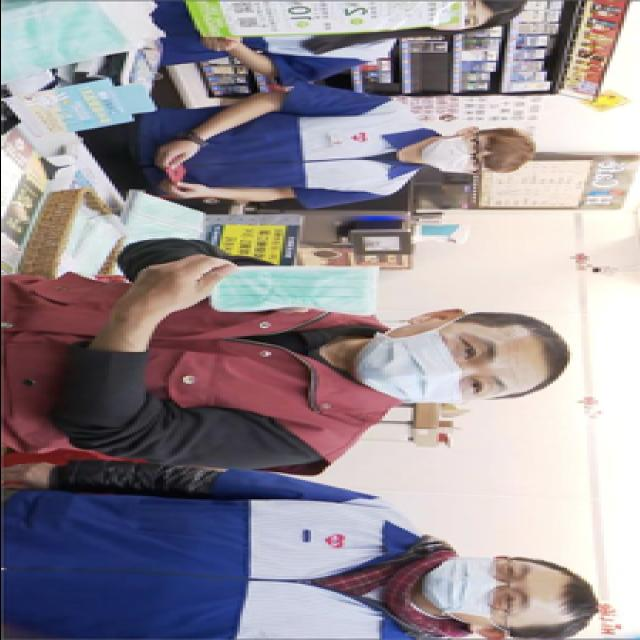mask: (350, 326, 510, 406), (418, 556, 538, 622), (416, 138, 486, 174), (424, 2, 484, 32)
